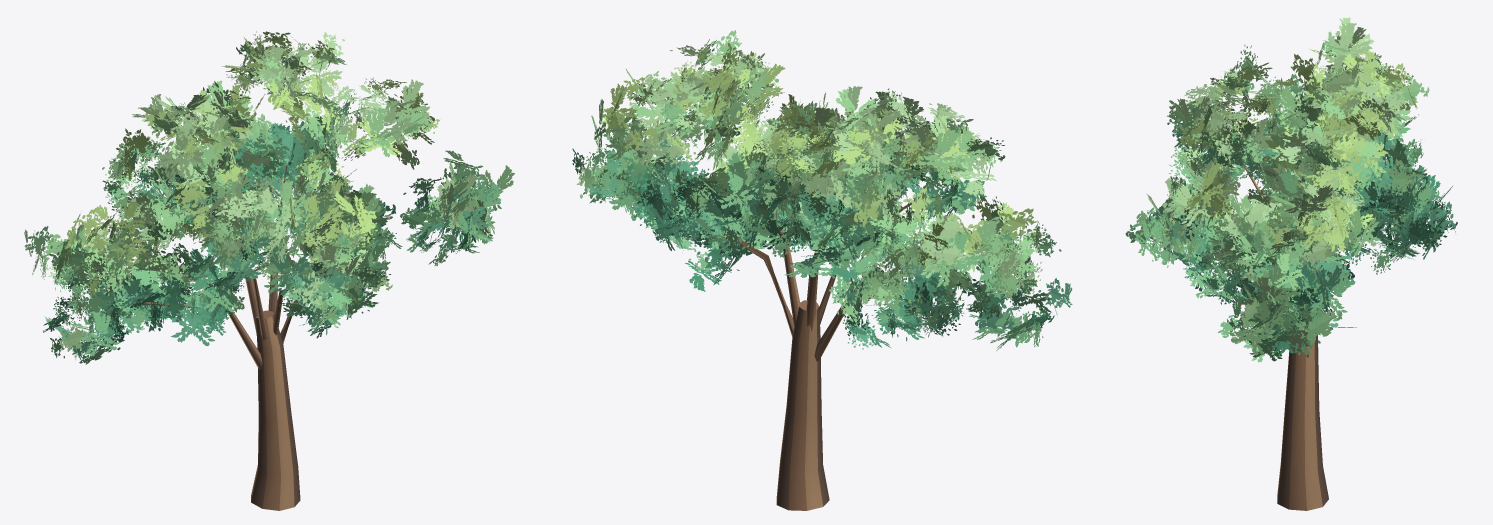
Rendered from Tree_02_Broad_Meadow.glb.
3 renders of one model, left to right at view 1: azimuth 30°, elevation 25°; view 2: azimuth 150°, elevation 25°; view 3: azimuth 270°, elevation 25°, orthographic. The views are drawn at different scales.
Parts seen in each view (by area): view 1: Tree_02_Broad_Meadow; view 2: Tree_02_Broad_Meadow; view 3: Tree_02_Broad_Meadow.
Part boxes in pixels (x1,y1,x2,y2): Tree_02_Broad_Meadow: (24, 31, 514, 510); Tree_02_Broad_Meadow: (572, 30, 1072, 510); Tree_02_Broad_Meadow: (1125, 17, 1457, 510).
Bounding box in the file's own units: 7.49 × 6.9 × 4.77.
Materials: 9 (6 with a texture image).
